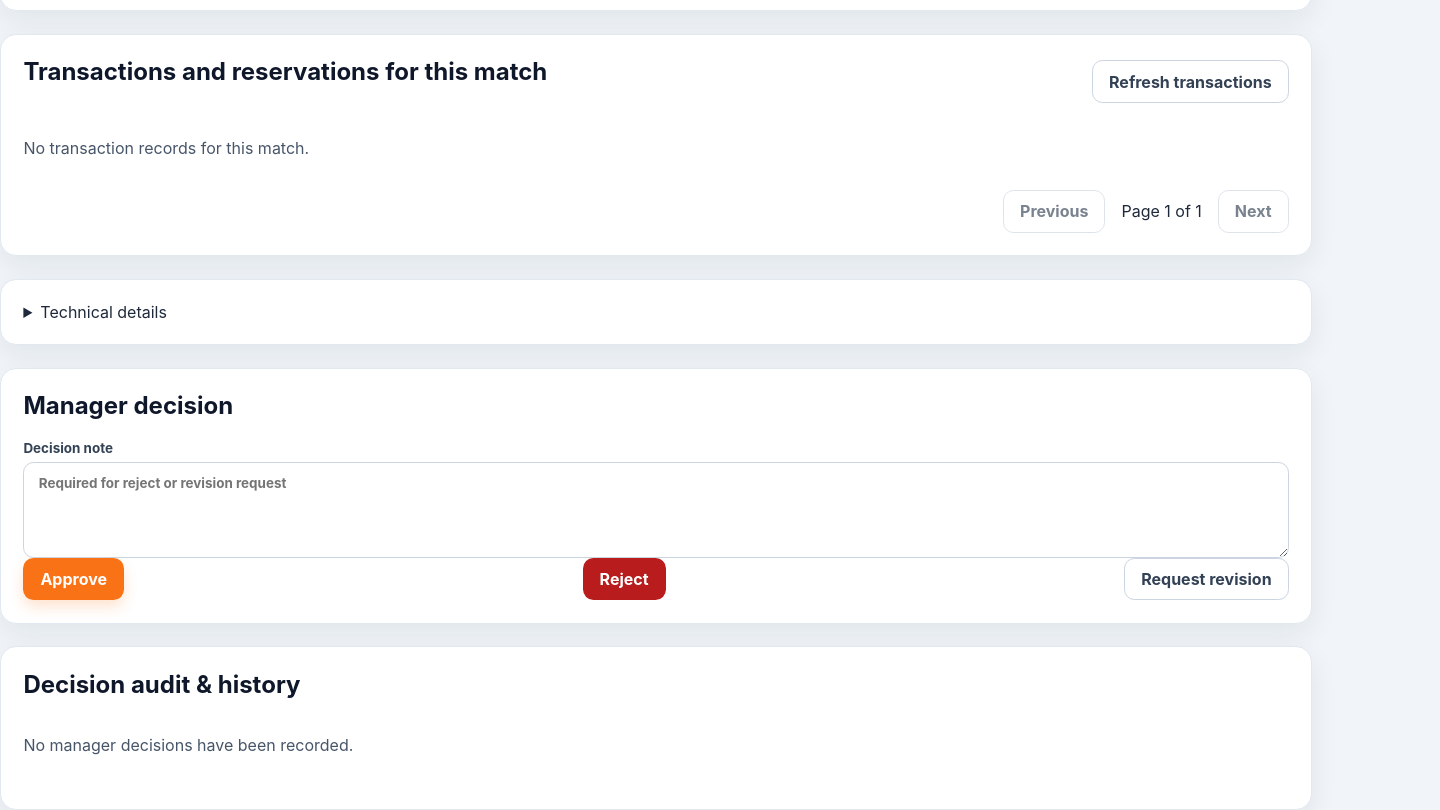
Test: manager workflow decisions › does not show the buyer approval success overlay when approval fails
The image size is (1440, 810).
(page scrolled)
Click the button "Approve" at (74, 579), box [23,558,124,600]
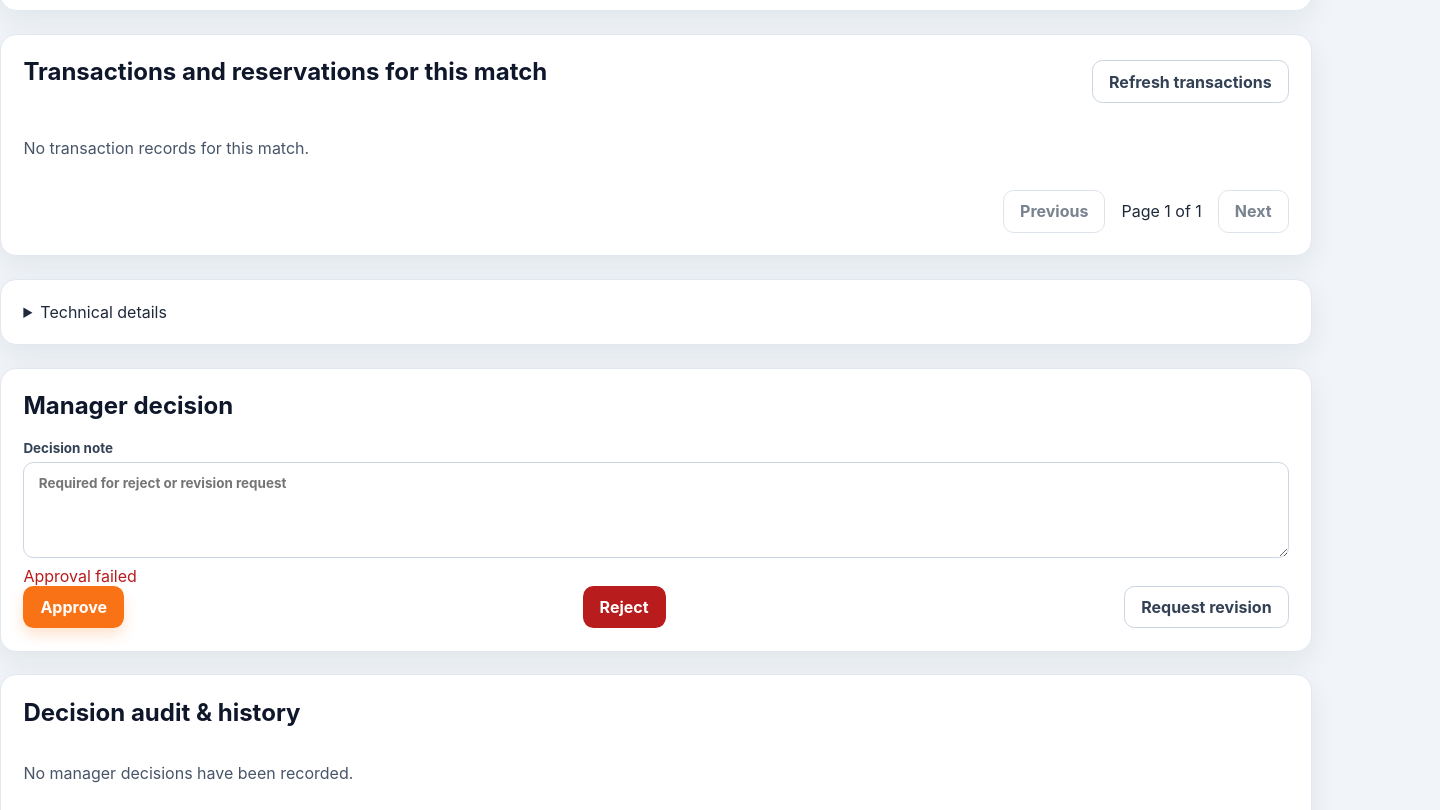
Check: the message reads "Approval failed", box [23,566,137,586]
